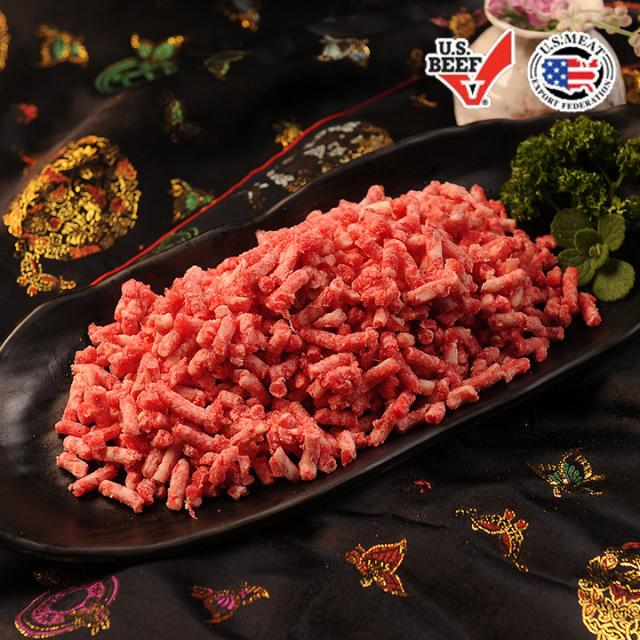beef: (115, 307, 319, 464)
